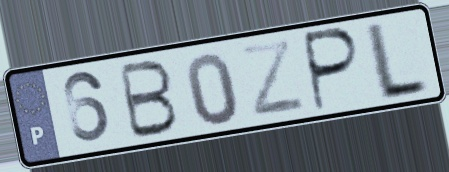0: (182, 47, 243, 128)
6: (61, 68, 114, 148)
B: (116, 57, 181, 142)
L: (364, 18, 431, 104)
P: (302, 25, 364, 115)
Z: (237, 36, 309, 119)
